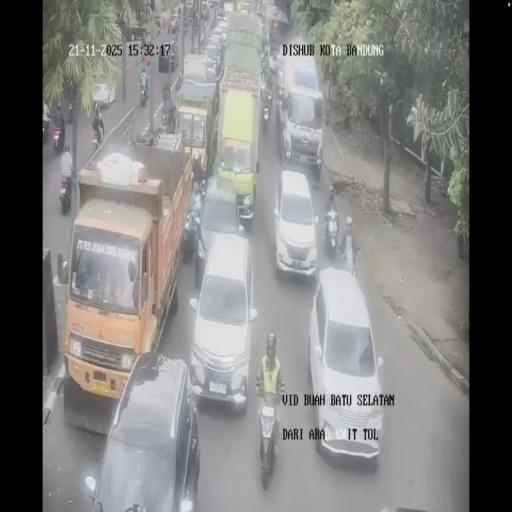3: (64, 138, 192, 415), (173, 58, 219, 181), (222, 9, 265, 86), (124, 26, 146, 56)
car: (310, 266, 382, 457), (273, 168, 318, 281), (195, 173, 244, 274), (278, 53, 319, 119), (203, 41, 224, 81), (91, 79, 115, 109), (215, 16, 229, 44), (268, 50, 280, 82), (264, 4, 278, 22), (216, 2, 227, 20), (254, 2, 264, 21), (239, 0, 250, 13)
truck: (254, 384, 284, 486), (340, 231, 360, 279), (323, 204, 340, 258), (58, 168, 72, 214), (261, 87, 272, 132), (53, 120, 65, 154), (165, 106, 176, 134), (91, 123, 101, 152), (139, 82, 149, 106), (169, 45, 177, 72), (171, 19, 180, 41), (162, 80, 170, 104), (67, 101, 74, 123), (192, 12, 199, 33), (142, 47, 150, 65), (155, 18, 161, 36), (182, 15, 188, 33), (167, 16, 172, 36)
